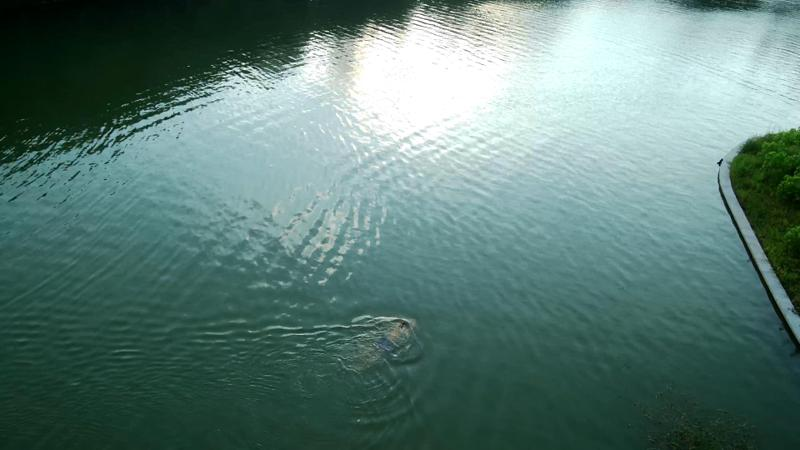swimmers: (379, 319, 415, 352)
